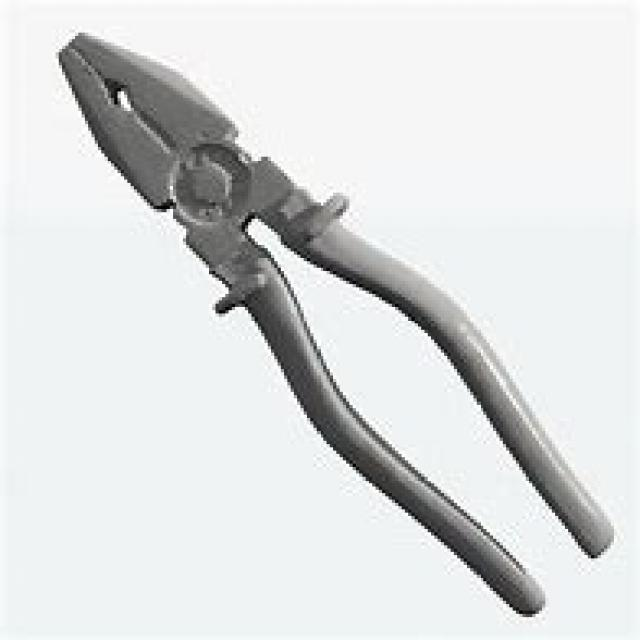pliers: (48, 28, 620, 628)
